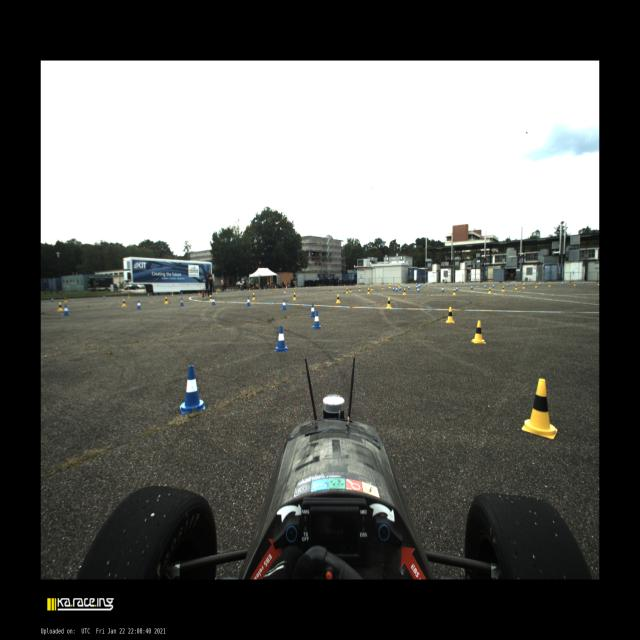blue_cone: (180, 366, 205, 413), (275, 326, 288, 352), (312, 312, 322, 328), (63, 304, 70, 316), (310, 303, 315, 317), (281, 299, 287, 310), (136, 300, 142, 309), (246, 297, 251, 306), (180, 297, 184, 306), (212, 297, 216, 305), (561, 280, 564, 286), (470, 284, 473, 290), (392, 286, 395, 292), (492, 283, 495, 288), (442, 286, 444, 292), (417, 287, 419, 293), (396, 286, 398, 292), (51, 298, 54, 302), (103, 296, 106, 300), (507, 282, 509, 287), (484, 284, 486, 289), (456, 286, 458, 291), (408, 285, 410, 290), (399, 286, 401, 290), (148, 293, 150, 297), (243, 288, 245, 292), (418, 284, 420, 288), (367, 282, 369, 286), (181, 292, 183, 295), (309, 285, 311, 288), (324, 285, 326, 288), (425, 283, 427, 286), (583, 281, 585, 284), (539, 282, 540, 286), (228, 290, 230, 292), (295, 286, 297, 288), (338, 285, 340, 287), (404, 282, 405, 286), (416, 285, 417, 289), (421, 283, 423, 285), (353, 284, 355, 286), (260, 288, 261, 291), (411, 282, 412, 285), (420, 284, 421, 286), (284, 286, 284, 289)
large_orange_cone: (275, 285, 276, 290), (286, 285, 287, 290)
yellow_cone: (521, 378, 557, 438), (471, 321, 485, 344), (446, 306, 455, 324), (386, 298, 392, 308), (58, 302, 64, 311), (336, 294, 340, 304), (452, 288, 457, 296), (164, 296, 169, 304), (292, 292, 297, 300), (122, 298, 126, 306), (358, 286, 362, 292), (514, 284, 518, 290), (501, 286, 505, 292), (403, 288, 406, 295), (488, 287, 491, 294), (252, 293, 255, 300), (367, 288, 370, 294), (381, 284, 384, 290), (210, 294, 212, 302), (349, 287, 352, 292), (548, 282, 551, 287), (64, 297, 67, 302), (573, 282, 576, 286), (535, 282, 537, 288), (389, 284, 392, 288), (523, 284, 525, 289), (346, 288, 348, 293), (371, 286, 373, 290), (128, 294, 130, 298), (172, 292, 174, 296), (198, 291, 200, 295), (249, 288, 251, 292), (294, 286, 296, 289), (216, 290, 217, 294), (306, 286, 308, 288), (369, 284, 371, 286), (598, 282, 599, 286), (277, 287, 278, 290), (319, 285, 320, 288), (264, 288, 265, 290), (332, 285, 333, 287), (398, 284, 399, 286), (356, 284, 357, 286)
